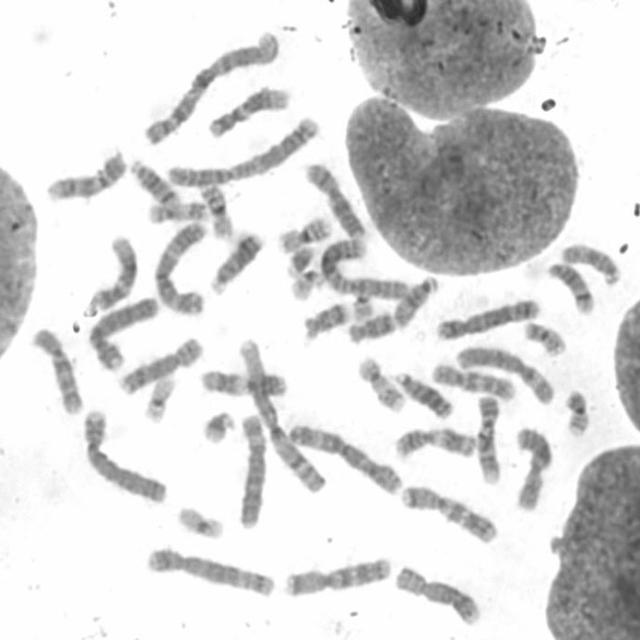A1: (137, 24, 284, 148), (234, 331, 328, 497)
A2: (160, 109, 322, 188), (316, 233, 413, 301)
A3: (284, 417, 404, 496), (150, 216, 210, 317)
B4: (78, 403, 170, 505), (84, 290, 160, 372)
B5: (141, 542, 278, 599), (433, 292, 542, 341)
C10: (26, 320, 86, 416), (427, 357, 518, 402)
C11: (390, 421, 480, 461), (197, 363, 290, 399)
C12: (203, 79, 293, 140), (80, 229, 141, 316)
C6: (452, 339, 558, 407), (233, 408, 270, 531)
C7: (396, 478, 502, 546), (280, 550, 396, 598)
C8: (390, 559, 484, 627), (114, 331, 206, 396)
C9: (41, 145, 129, 203), (472, 388, 505, 486)
D13: (206, 225, 266, 295), (390, 366, 456, 420)
D14: (543, 257, 596, 316), (126, 154, 182, 209)
D15: (558, 237, 624, 287), (389, 270, 440, 329)
E16: (273, 209, 334, 255), (196, 175, 236, 241)
E17: (354, 350, 409, 414), (144, 195, 211, 225)
E18: (299, 295, 353, 342), (344, 305, 398, 345)
F19: (173, 499, 227, 541), (139, 370, 178, 424)
F20: (519, 315, 569, 357), (560, 383, 592, 438)
G21: (197, 404, 238, 446), (280, 239, 318, 278)
G22: (287, 264, 327, 301), (349, 283, 376, 322)
X: (301, 157, 369, 240), (509, 420, 556, 512)
